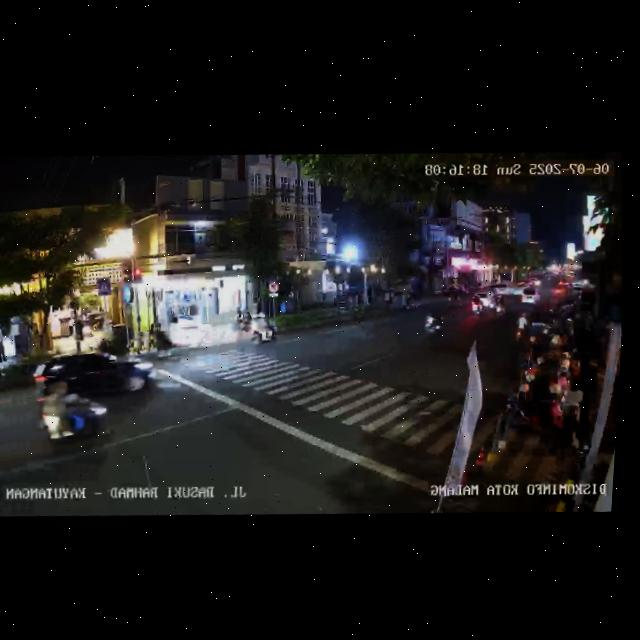car: (31, 343, 160, 410), (519, 287, 542, 306)
motorcycle: (35, 375, 116, 451), (250, 313, 279, 346), (420, 311, 446, 342), (513, 309, 532, 344), (469, 293, 486, 319), (492, 294, 507, 319), (445, 287, 463, 307)
person: (557, 376, 587, 456), (0, 330, 10, 363), (75, 316, 87, 342)
